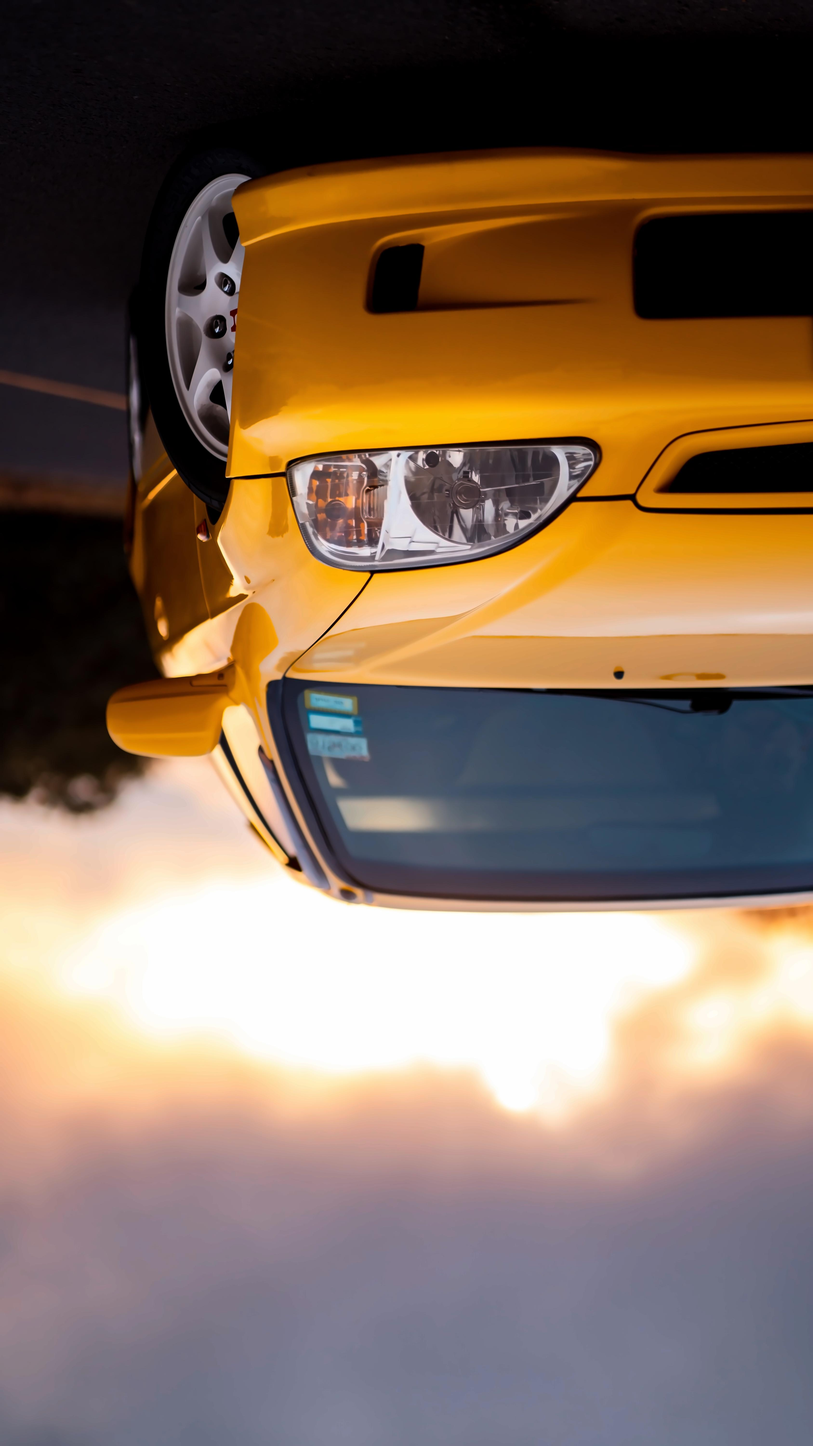Car hood: (285, 497, 813, 707)
Front bumper: (227, 138, 813, 519)
Headlight - -L-: (272, 429, 605, 581)
Side mirror - -L-: (105, 663, 248, 769)
